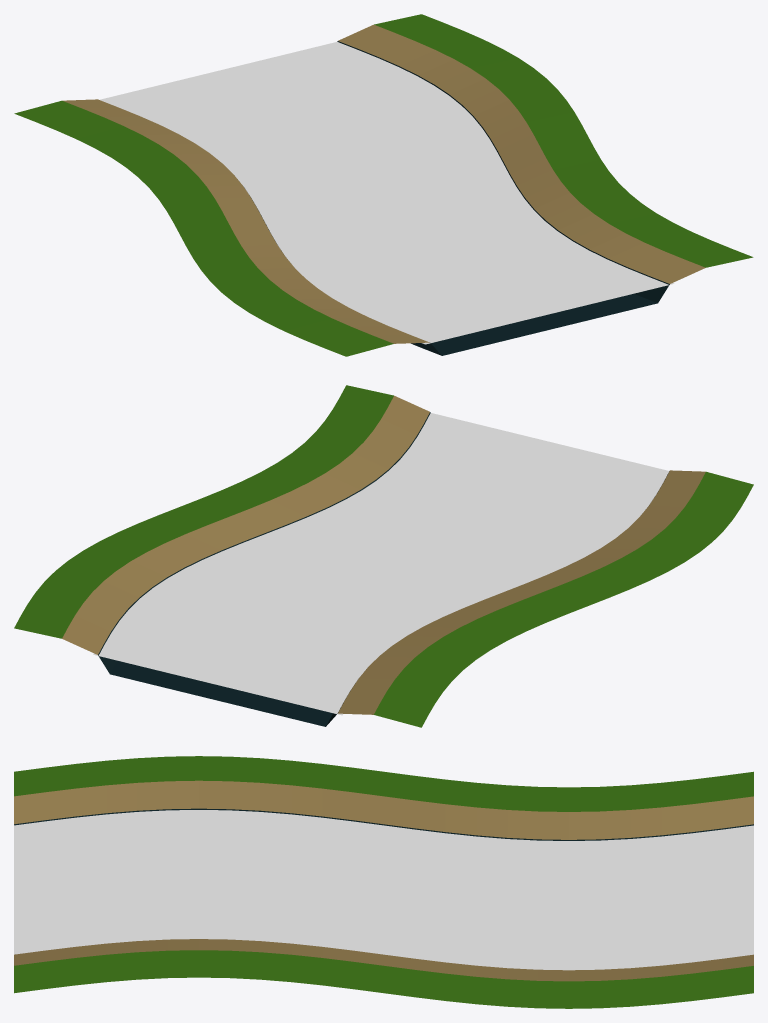
The model's file is ENV_Water_River.fbx.
3 renders of one model, top to bottom at view 1: azimuth 30°, elevation 25°; view 2: azimuth 150°, elevation 25°; view 3: azimuth 270°, elevation 25°, orthographic. The views are drawn at different scales.
Parts seen in each view (by area): view 1: ENV_Water_River_Surface, ENV_Water_River_Banks; view 2: ENV_Water_River_Surface, ENV_Water_River_Banks; view 3: ENV_Water_River_Surface, ENV_Water_River_Banks.
Part boxes in pixels (x1,y1,x2,y2): ENV_Water_River_Surface: (99, 42, 674, 344); ENV_Water_River_Banks: (14, 14, 753, 356); ENV_Water_River_Surface: (93, 413, 669, 715); ENV_Water_River_Banks: (14, 385, 753, 727); ENV_Water_River_Surface: (14, 810, 753, 970); ENV_Water_River_Banks: (14, 756, 753, 1008).
Bounding box in the file's own units: 19.4 × 0.95 × 24.
